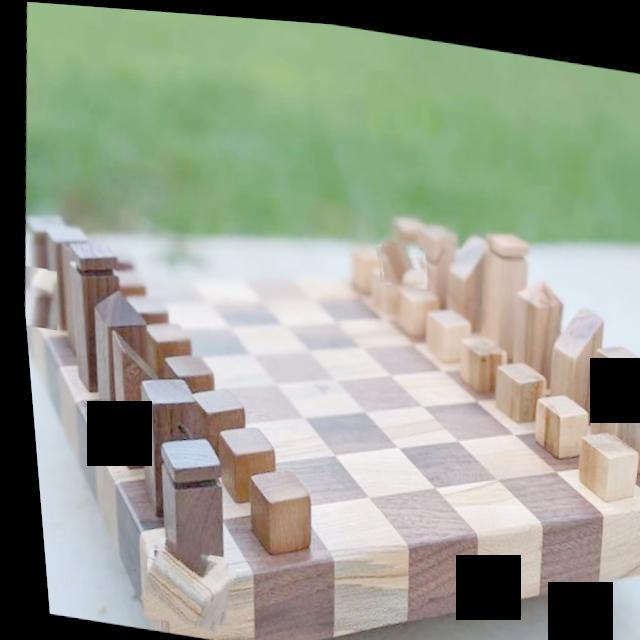chess-table-corners: (128, 536, 228, 629), (369, 232, 426, 286), (17, 265, 56, 330)
